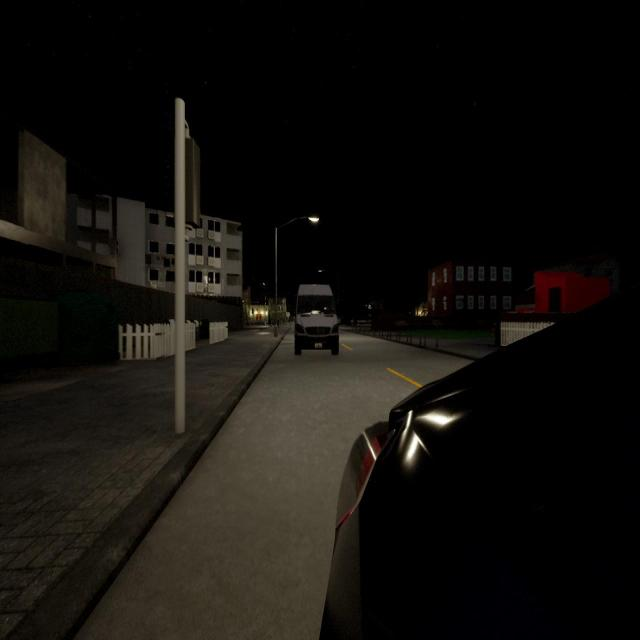Traffic_Signs: (286, 312, 290, 317)
Vehicle: (321, 287, 639, 637), (295, 284, 339, 358)
traffic_light: (184, 136, 201, 228)
